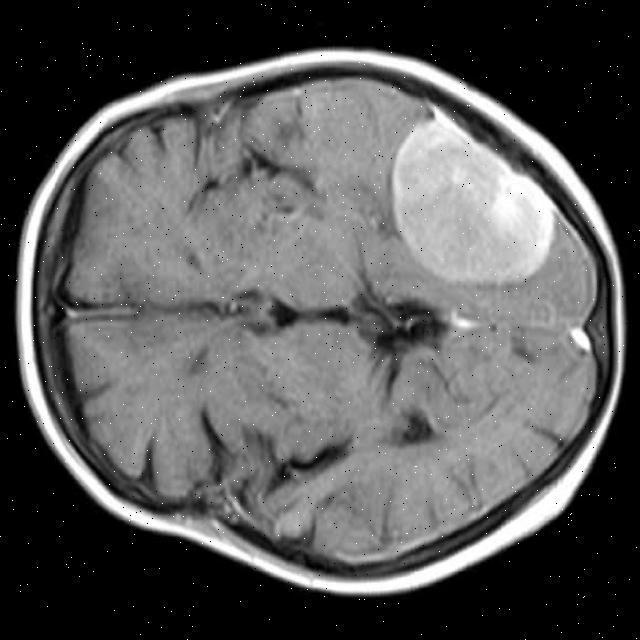Meningioma: (393, 113, 555, 284)
